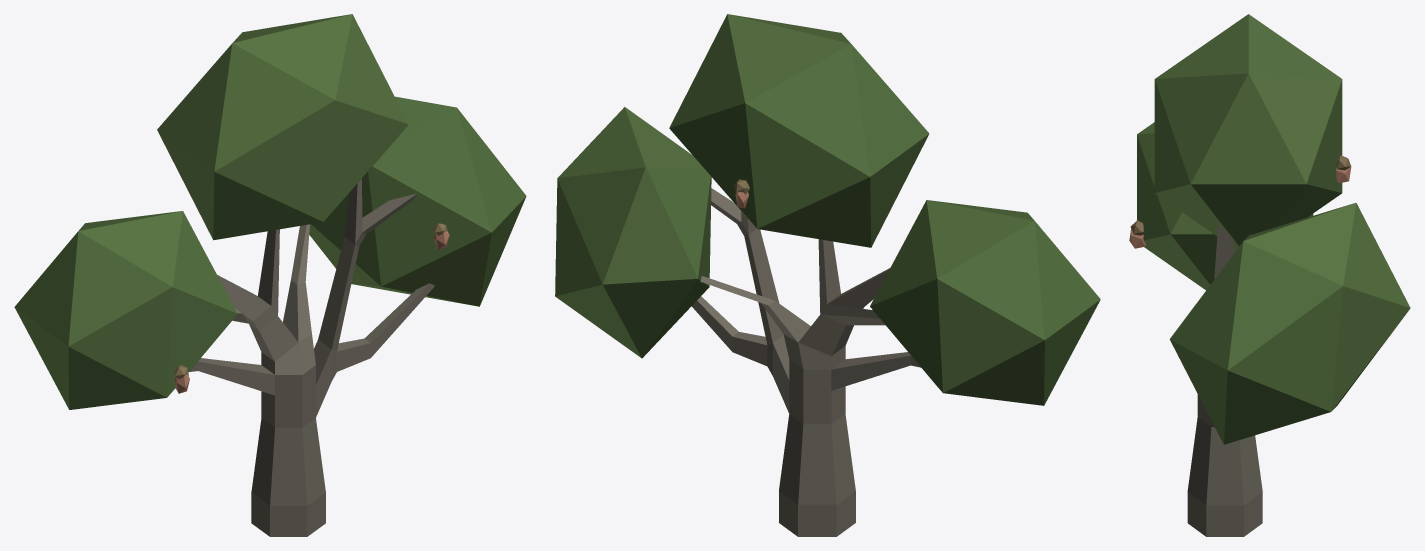
File: 003_コナラ.fbx
3 views of the same model, side by side, from view 1: azimuth 30°, elevation 25°; view 2: azimuth 150°, elevation 25°; view 3: azimuth 270°, elevation 25° (orthographic). The views are drawn at different scales.
Parts seen in each view (by area): view 1: ICO球.001, ICO球, 円柱, ICO球.002; view 2: ICO球.001, ICO球, ICO球.002, 円柱; view 3: ICO球.002, ICO球.001, 円柱, ICO球.
Part boxes in pixels (left/top/right/bottom): ICO球.001: left=157, top=14, right=408, bottom=240; ICO球: left=14, top=211, right=237, bottom=409; 円柱: left=189, top=179, right=434, bottom=536; ICO球.002: left=309, top=96, right=526, bottom=306; ICO球.001: left=669, top=14, right=929, bottom=247; ICO球: left=870, top=200, right=1100, bottom=405; ICO球.002: left=555, top=107, right=711, bottom=358; 円柱: left=691, top=188, right=920, bottom=536; ICO球.002: left=1169, top=203, right=1410, bottom=444; ICO球.001: left=1154, top=14, right=1342, bottom=249; 円柱: left=1187, top=224, right=1262, bottom=536; ICO球: left=1137, top=122, right=1313, bottom=290.
Bounding box in the file's own units: 980 × 929 × 486.
